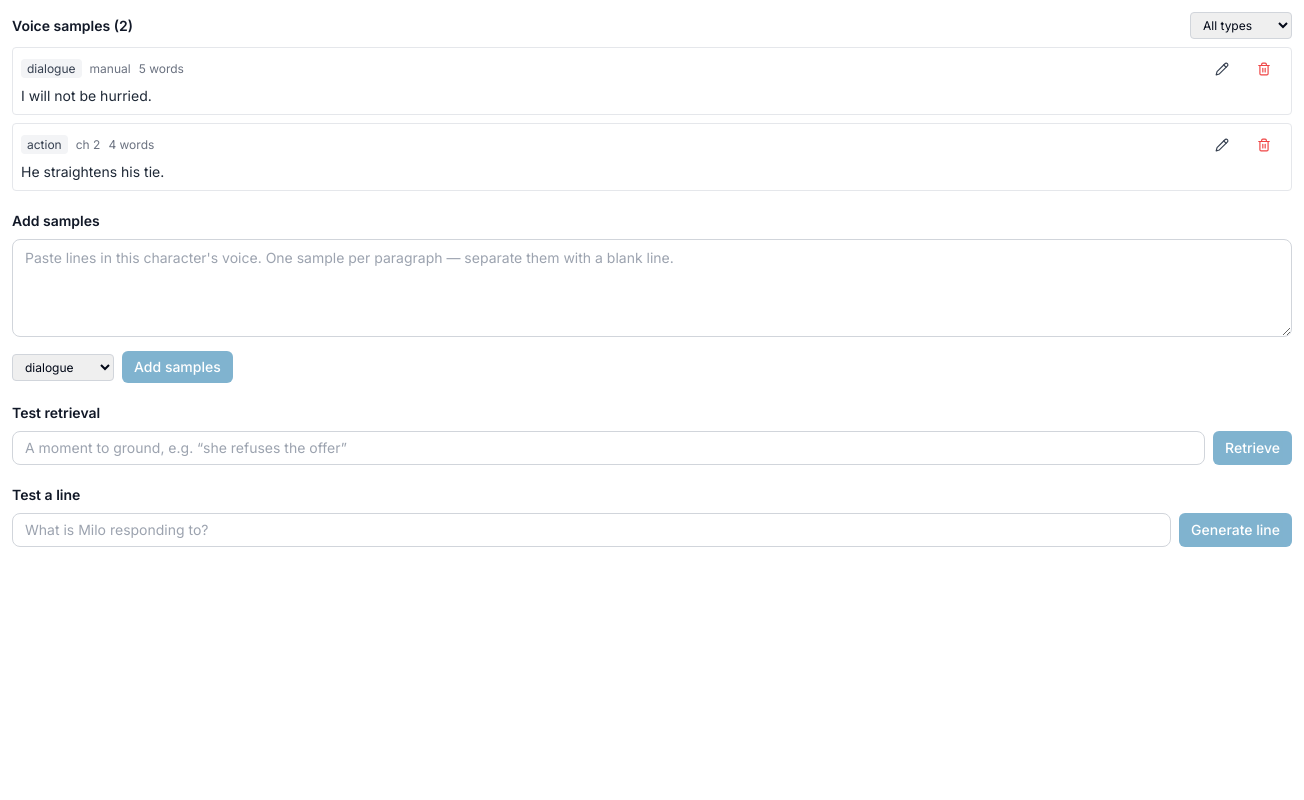
Test case: VoicePanel › tests a line and shows what grounded it
Type "Asked to hurry" into the field named "Line prompt".
click(592, 530); type("Asked to hurry")  # box [12,513,1171,547]
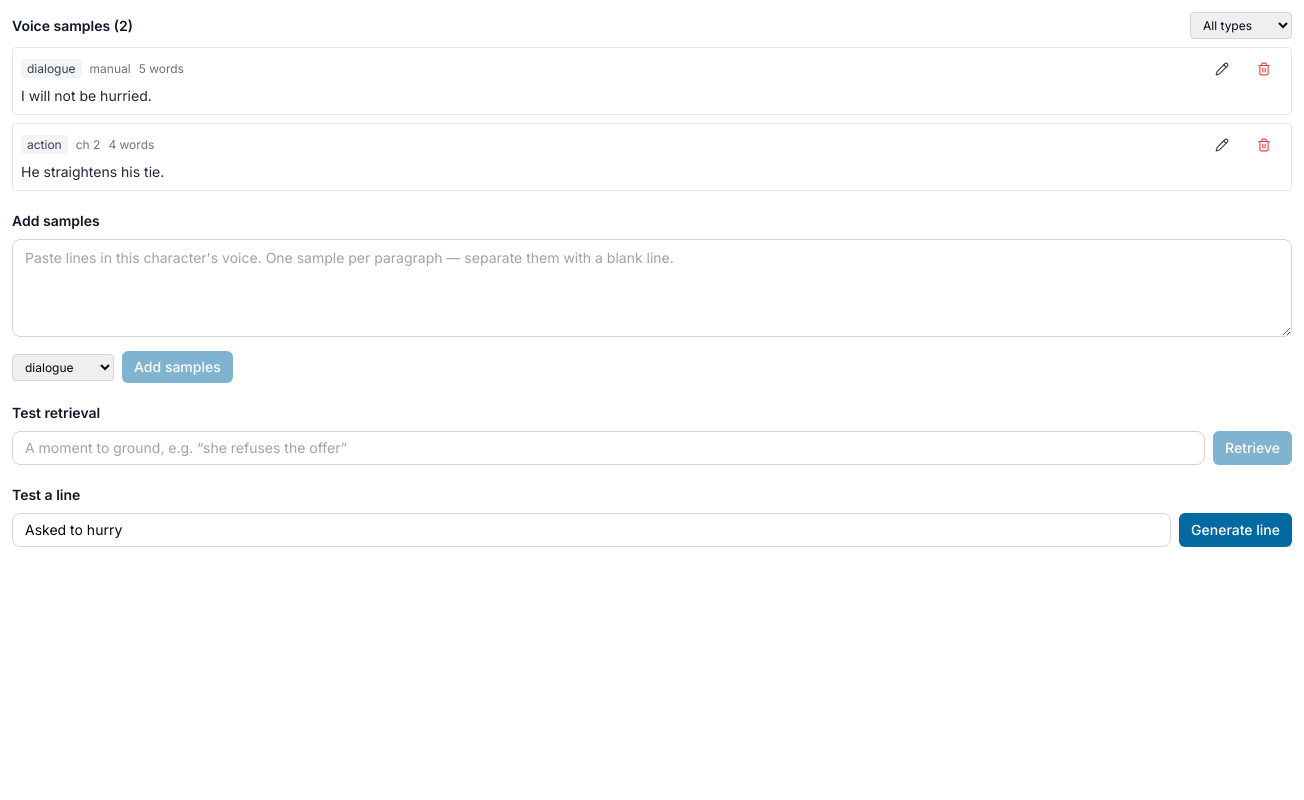
Click the button "Generate line".
click(1236, 530)  # box [1179,513,1292,547]
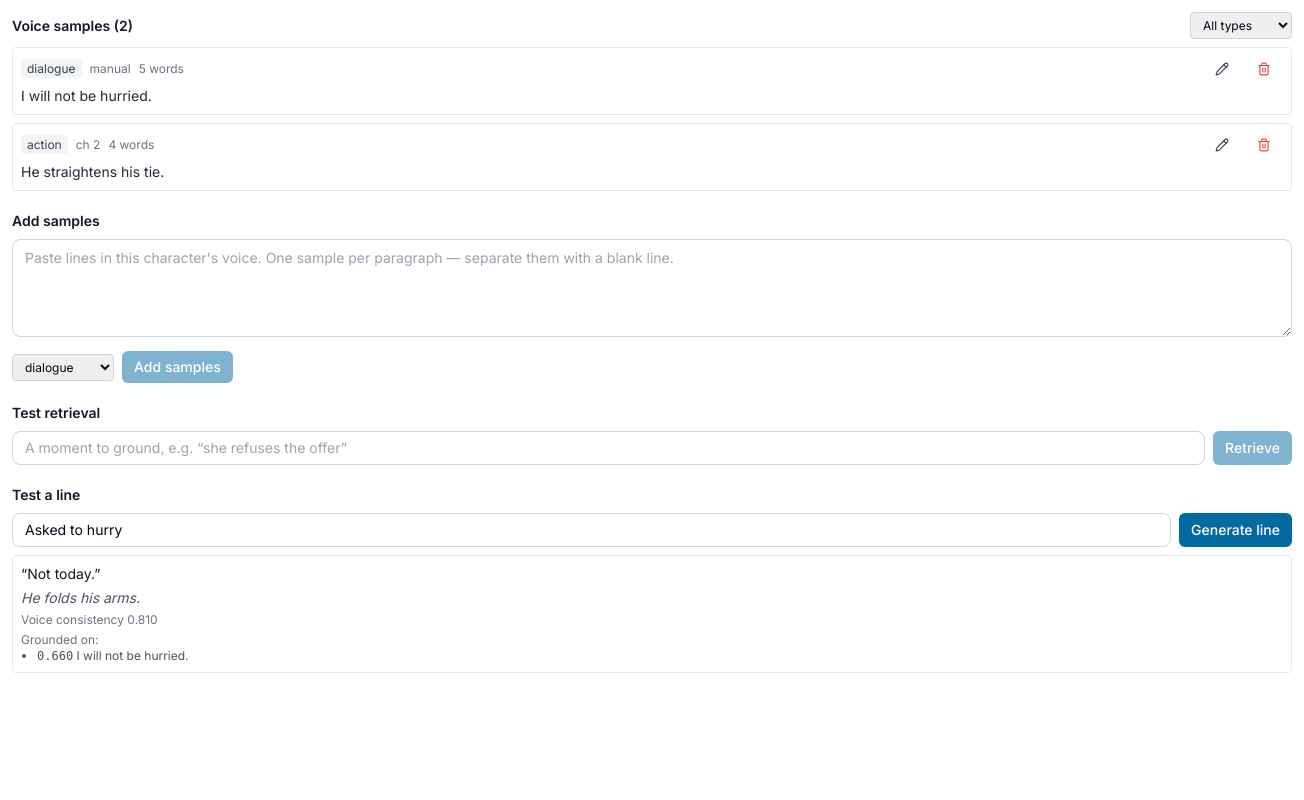
Expected: the element with test id "test-line" shows "Not today.", [27,565,94,582]
Expected: the element with test id "test-line" shows "0.660 I will not be hurried.", [12,555,1292,673]
